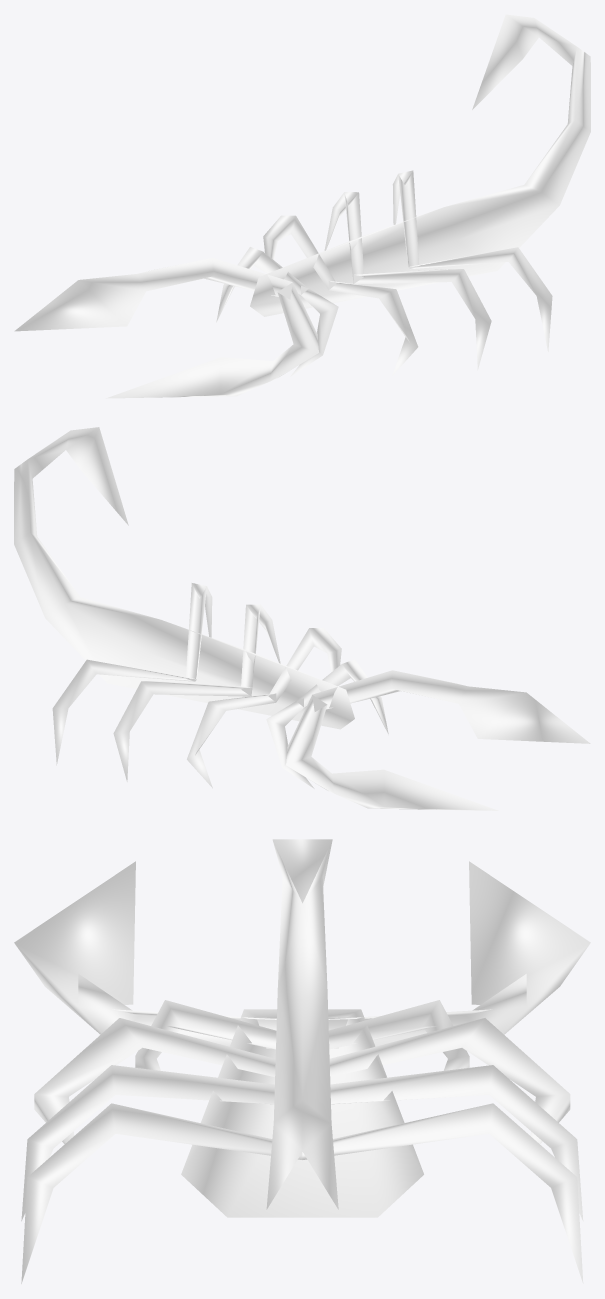
File: ps2_save-icons_justcause.glb
The picture shows the model from 3 angles, top to bottom: view 1: azimuth 30°, elevation 25°; view 2: azimuth 150°, elevation 25°; view 3: azimuth 270°, elevation 25°; orthographic projection. The views are drawn at different scales.
Parts seen in each view (by area): view 1: icon.ico; view 2: icon.ico; view 3: icon.ico.
Part boxes in pixels (<box>): icon.ico: <box>14,14,590,398</box>; icon.ico: <box>14,427,590,810</box>; icon.ico: <box>14,839,590,1283</box>.
Size of the model in its own units: 3.89 by 1.88 by 2.04.
1 material, 1 textured.
